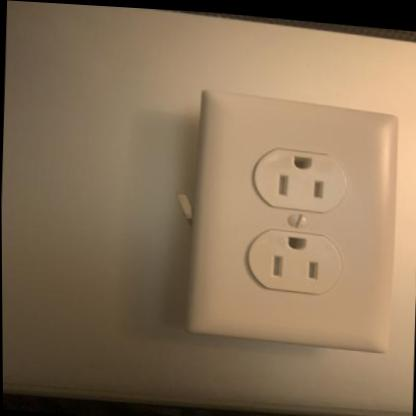OUTLET: (186, 93, 400, 353)
